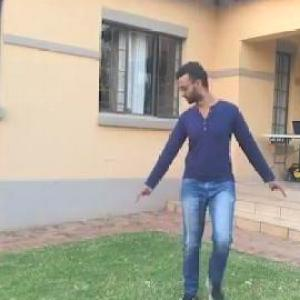land: (137, 70, 279, 299)
